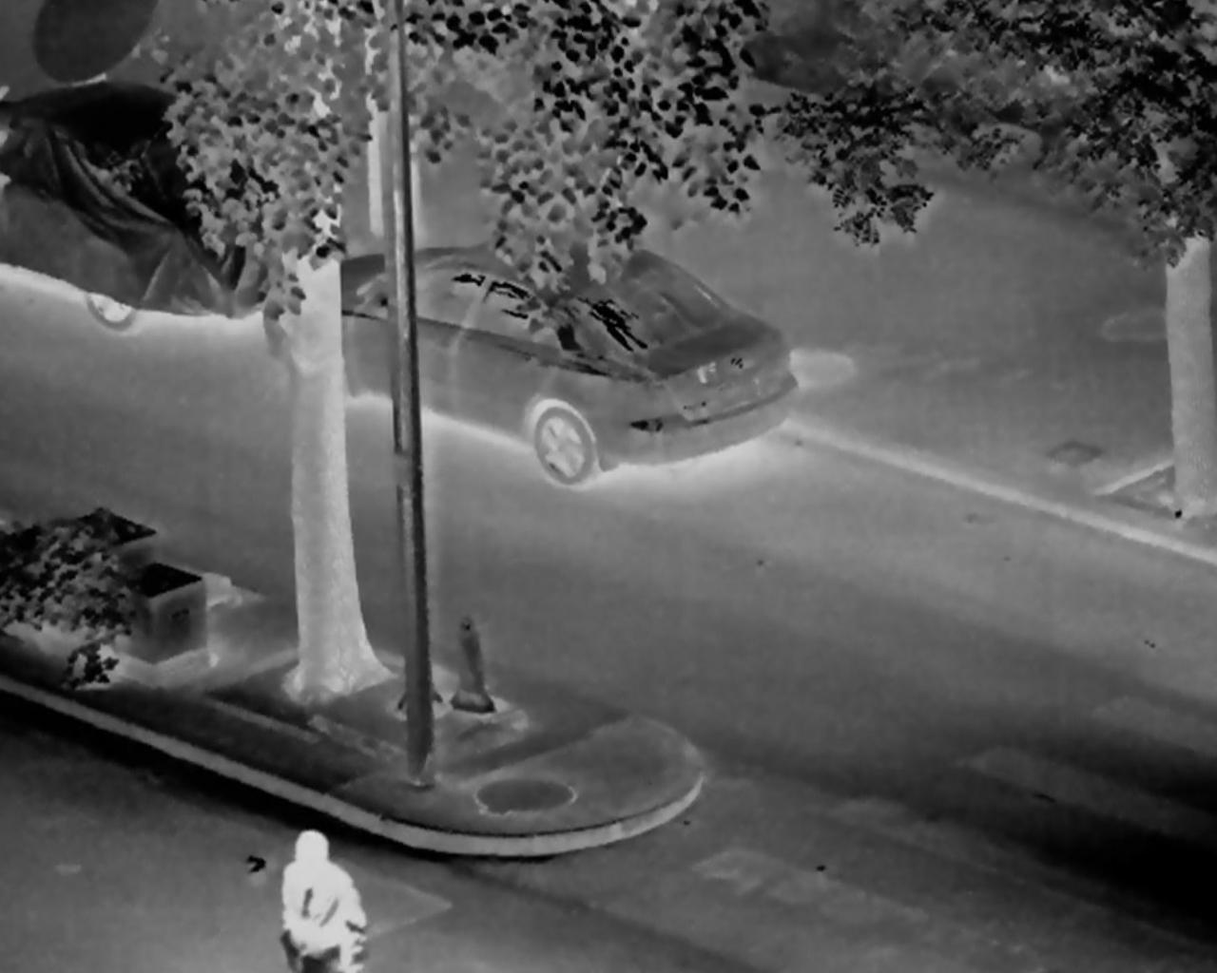person: (278, 828, 361, 973)
